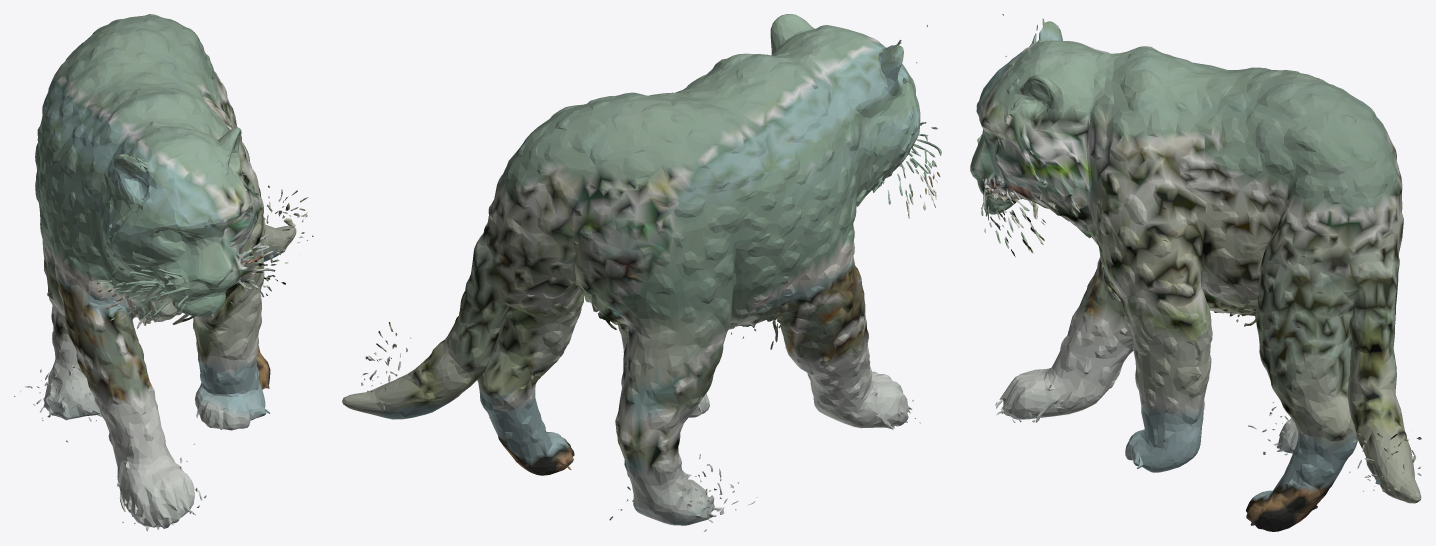
The model's file is scorpion.glb.
The picture shows the model from 3 angles, left to right: view 1: azimuth 30°, elevation 25°; view 2: azimuth 150°, elevation 25°; view 3: azimuth 270°, elevation 25°; orthographic projection. The views are drawn at different scales.
Parts seen in each view (by area): view 1: world; view 2: world; view 3: world.
Boxes of the visible parts, <box> form: world: <box>14,14,313,531</box>; world: <box>342,14,941,531</box>; world: <box>970,14,1421,531</box>.
Bounding box in the file's own units: 1.05 × 1 × 1.05.
